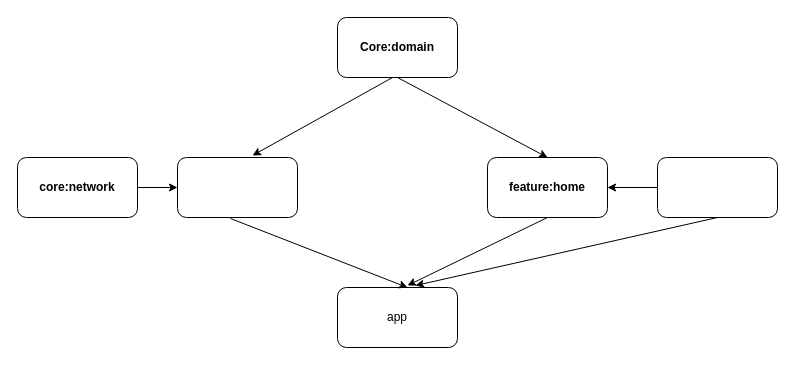
Some shapes in this 795 by 365 pixel diagram are drawn without their labels. The centre of each missing label's shape, as x and y in pixels:
"core:data" belongs at point (237, 187).
"core:designsystem" belongs at point (717, 187).
